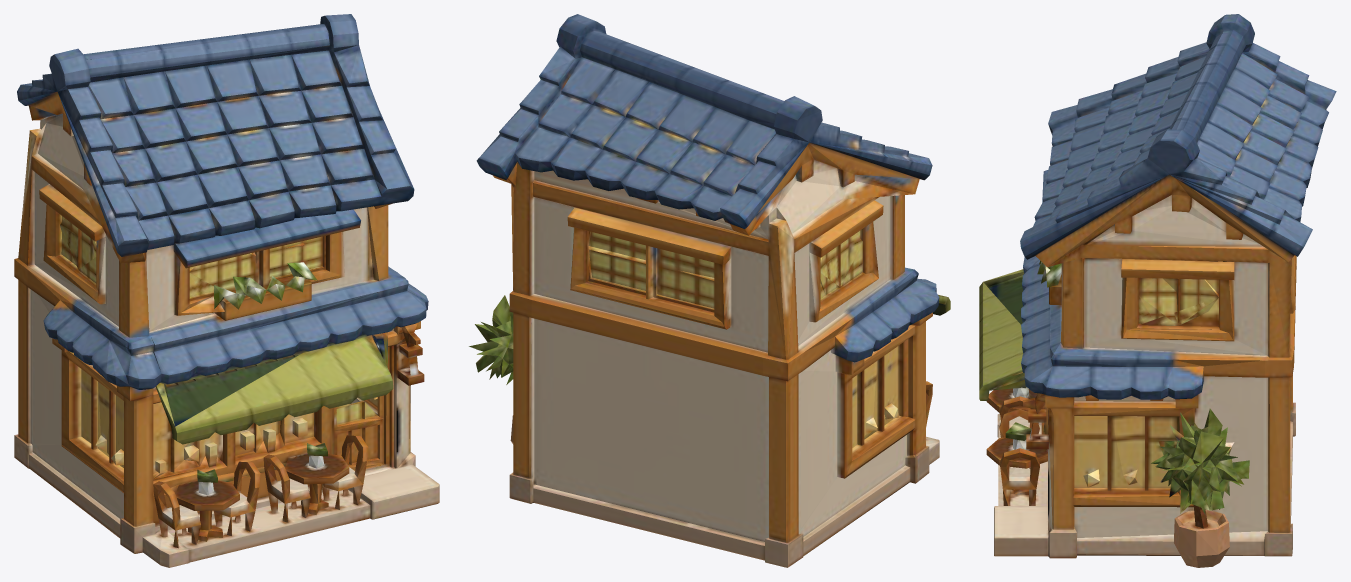
The model's file is cafe-u6xeyMGH.glb.
3 renders of one model, left to right at view 1: azimuth 30°, elevation 25°; view 2: azimuth 150°, elevation 25°; view 3: azimuth 270°, elevation 25°, orthographic. The views are drawn at different scales.
Visible parts, largest first — view 1: tripo_node_db7b4d6f-ef56-4142-bb10-c0e5bd248909; view 2: tripo_node_db7b4d6f-ef56-4142-bb10-c0e5bd248909; view 3: tripo_node_db7b4d6f-ef56-4142-bb10-c0e5bd248909.
Boxes of the visible parts, x1=… form: tripo_node_db7b4d6f-ef56-4142-bb10-c0e5bd248909: x1=14, y1=14, x2=439, y2=567; tripo_node_db7b4d6f-ef56-4142-bb10-c0e5bd248909: x1=469, y1=14, x2=950, y2=567; tripo_node_db7b4d6f-ef56-4142-bb10-c0e5bd248909: x1=979, y1=14, x2=1336, y2=567.
Bounding box in the file's own units: 0.9088 × 0.9777 × 0.7558.
Materials: 1 (1 with a texture image).
